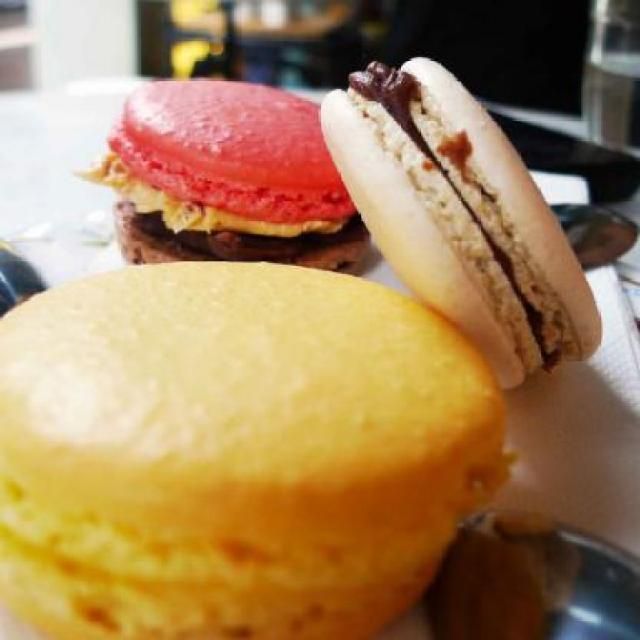Macaron: (8, 56, 610, 639)
